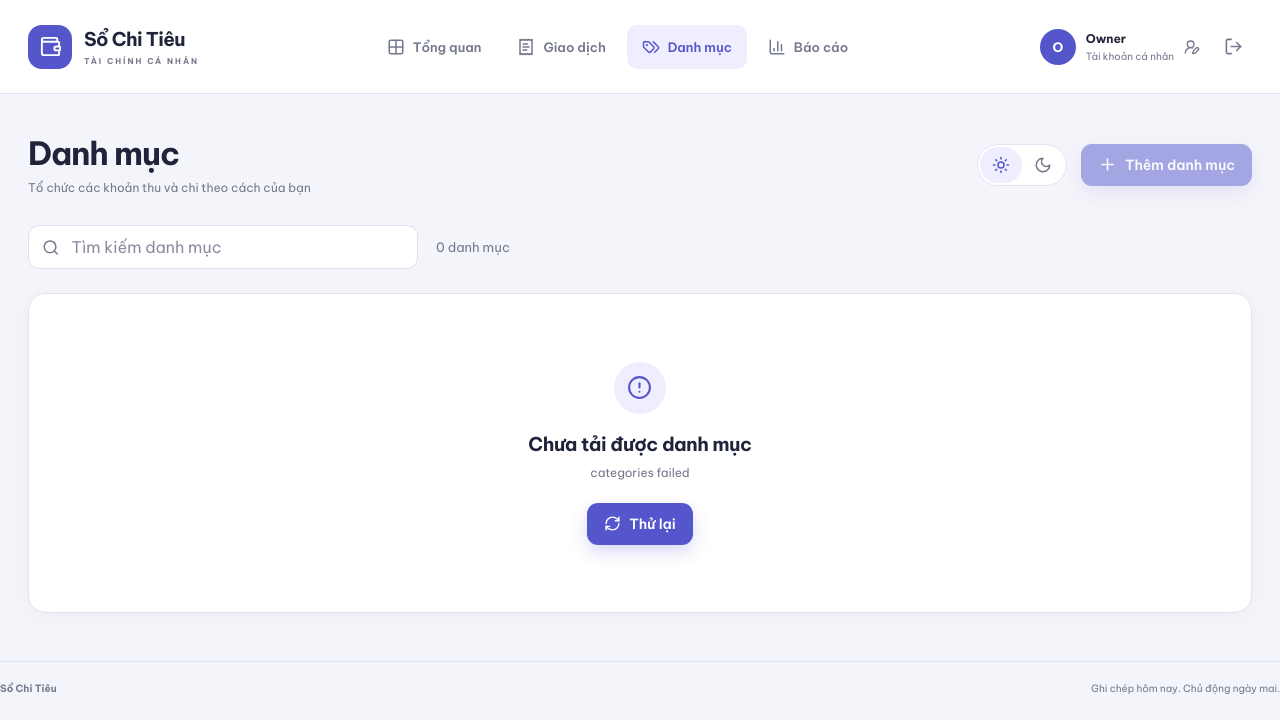
Scenario: application route smoke tests › shows and retries category load errors
Expected: the message shows "categories failed", [590,465,690,480]
Click the button "Thử lại".
click(640, 524)  # box [587,503,693,545]
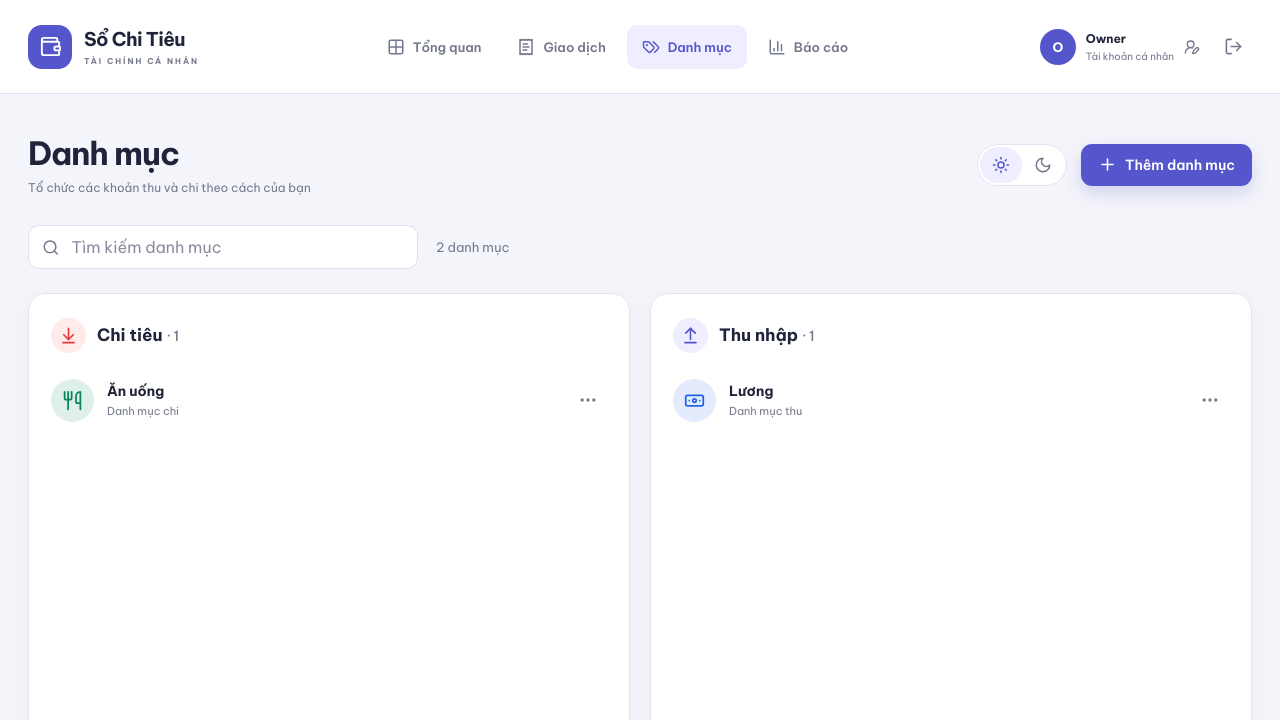
Expected: the message "Chưa tải được danh mục categories failed Thử lại" is gone
